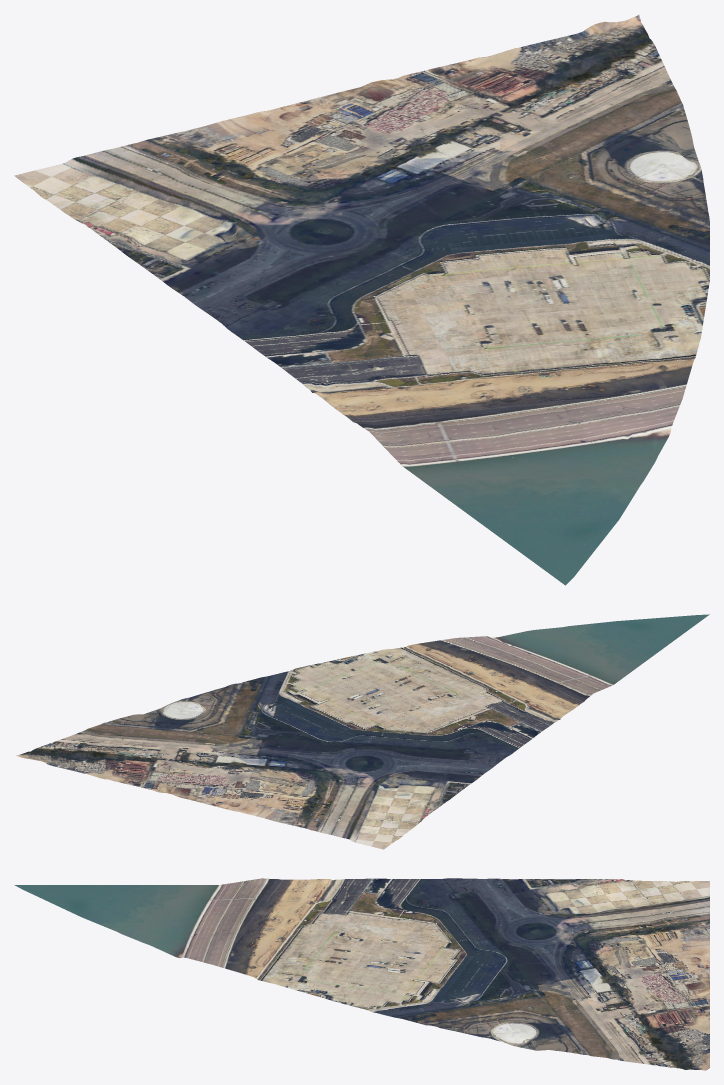
The model's file is terrain_08.glb.
3 renders of one model, top to bottom at view 1: azimuth 30°, elevation 25°; view 2: azimuth 150°, elevation 25°; view 3: azimuth 270°, elevation 25°, orthographic. The views are drawn at different scales.
Parts seen in each view (by area): view 1: T10500168000106E11.001; view 2: T10500168000106E11.001; view 3: T10500168000106E11.001.
Boxes of the visible parts, <box> form: T10500168000106E11.001: <box>14,14,709,585</box>; T10500168000106E11.001: <box>16,614,709,849</box>; T10500168000106E11.001: <box>14,878,709,1070</box>.
Size of the model in its own units: 339 by 9.59 by 518.
Materials: 1 (1 with a texture image).
